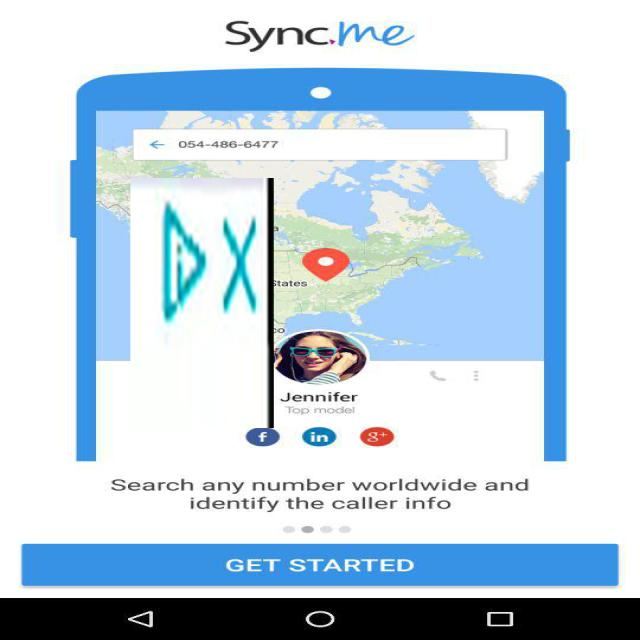sneaking: (130, 178, 274, 428)
